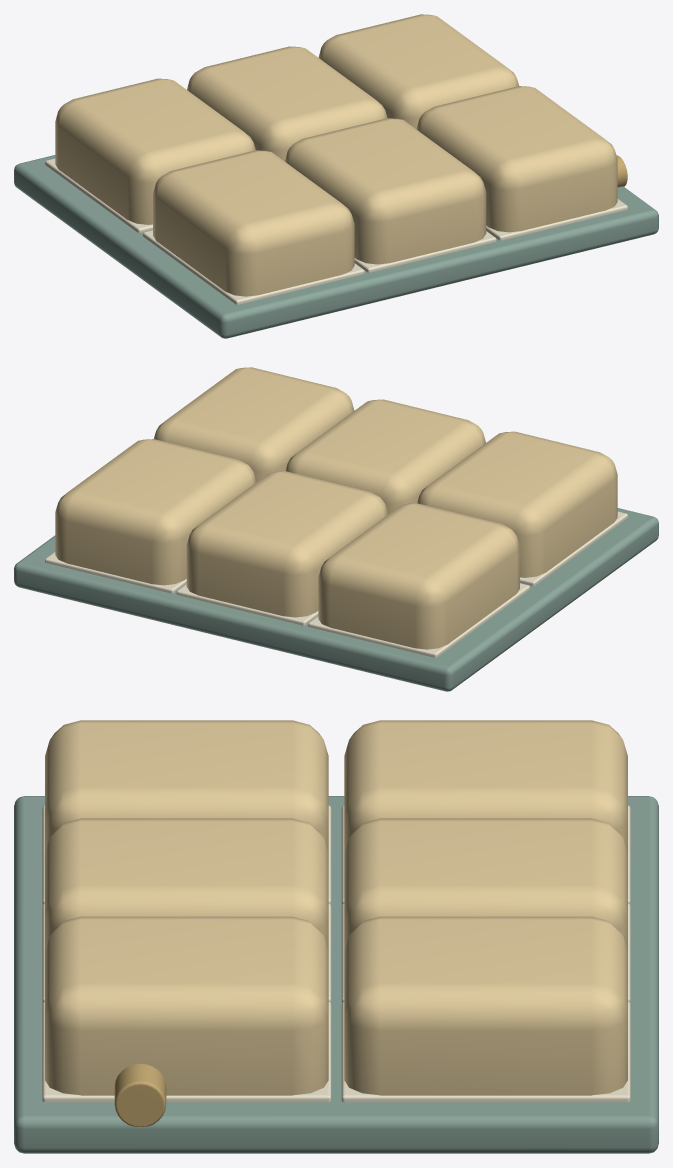
The model's file is packing_cushion.glb.
3 views of the same model, one above another, from view 1: azimuth 30°, elevation 25°; view 2: azimuth 150°, elevation 25°; view 3: azimuth 270°, elevation 25° (orthographic). The views are drawn at different scales.
Parts seen in each view (by area): view 1: Inflator tray, Heat sealed cell.003, Heat sealed cell.004, Heat sealed cell.005, Heat sealed cell, Heat sealed cell.002, Heat sealed cell.001, Surface Ivory paper.006; view 2: Inflator tray, Heat sealed cell, Heat sealed cell.001, Heat sealed cell.002, Heat sealed cell.003, Heat sealed cell.005, Heat sealed cell.004, Surface Ivory paper.006; view 3: Inflator tray, Heat sealed cell.002, Heat sealed cell.005, Heat sealed cell, Heat sealed cell.003, Heat sealed cell.001, Heat sealed cell.004, Surface Ivory paper.006, Air valve.
Boxes of the visible parts, x1=… form: Inflator tray: x1=14, y1=155, x2=658, y2=338; Heat sealed cell.003: x1=153, y1=150, x2=354, y2=296; Heat sealed cell.004: x1=285, y1=118, x2=486, y2=264; Heat sealed cell.005: x1=416, y1=86, x2=617, y2=232; Heat sealed cell: x1=55, y1=78, x2=255, y2=224; Heat sealed cell.002: x1=318, y1=14, x2=518, y2=129; Heat sealed cell.001: x1=187, y1=46, x2=387, y2=161; Surface Ivory paper.006: x1=45, y1=158, x2=627, y2=304; Inflator tray: x1=14, y1=508, x2=658, y2=691; Heat sealed cell: x1=318, y1=503, x2=519, y2=649; Heat sealed cell.001: x1=186, y1=471, x2=387, y2=617; Heat sealed cell.002: x1=55, y1=439, x2=256, y2=585; Heat sealed cell.003: x1=417, y1=431, x2=617, y2=577; Heat sealed cell.005: x1=154, y1=367, x2=354, y2=482; Heat sealed cell.004: x1=285, y1=399, x2=485, y2=514; Surface Ivory paper.006: x1=45, y1=511, x2=627, y2=657; Inflator tray: x1=14, y1=796, x2=658, y2=1153; Heat sealed cell.002: x1=344, y1=916, x2=627, y2=1095; Heat sealed cell.005: x1=45, y1=916, x2=328, y2=1095; Heat sealed cell: x1=344, y1=720, x2=627, y2=853; Heat sealed cell.003: x1=45, y1=720, x2=328, y2=853; Heat sealed cell.001: x1=344, y1=818, x2=627, y2=951; Heat sealed cell.004: x1=45, y1=818, x2=328, y2=951; Surface Ivory paper.006: x1=42, y1=805, x2=630, y2=1102; Air valve: x1=114, y1=1063, x2=166, y2=1126.
Bounding box in the file's own units: 1.5 × 0.3 × 1.25.
